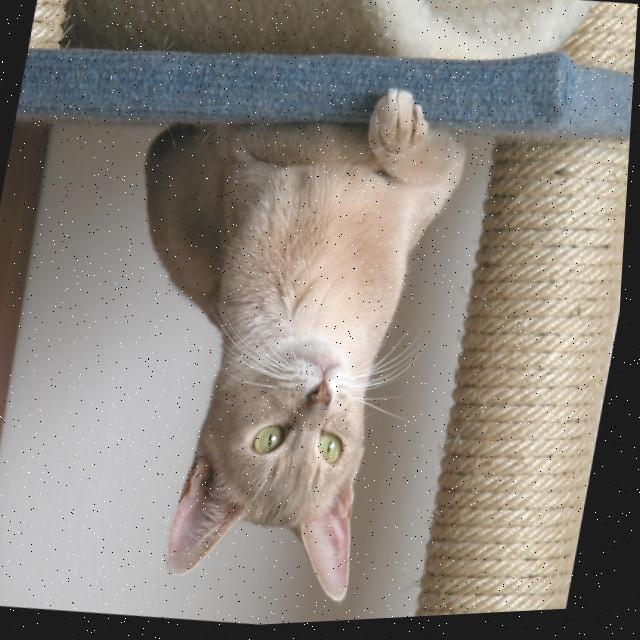Abyssinian: (69, 52, 489, 630)
